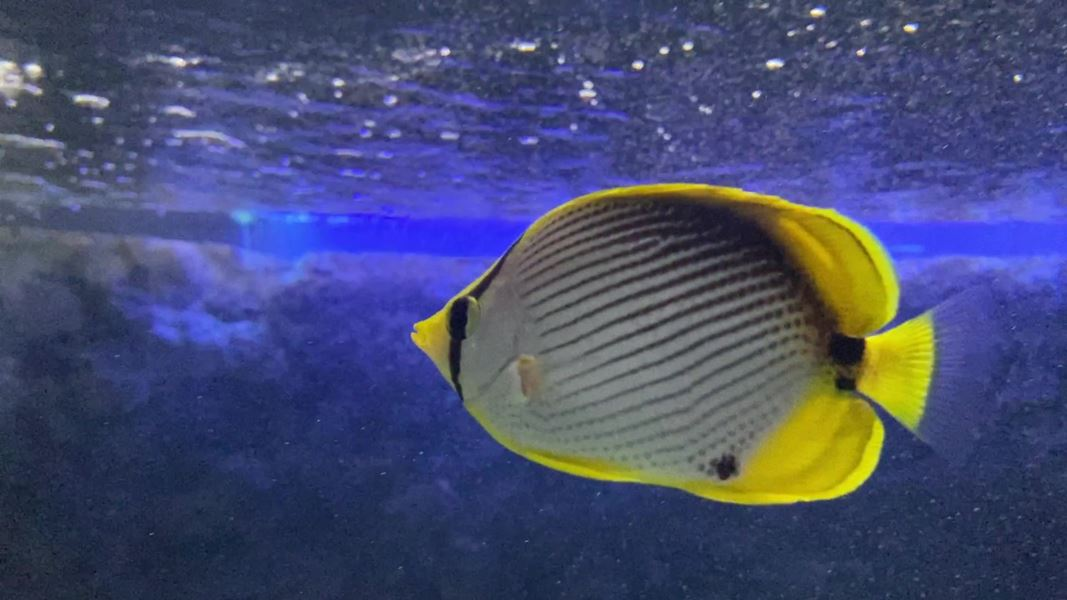Black-backed butterflyfish: (398, 170, 1024, 517)
